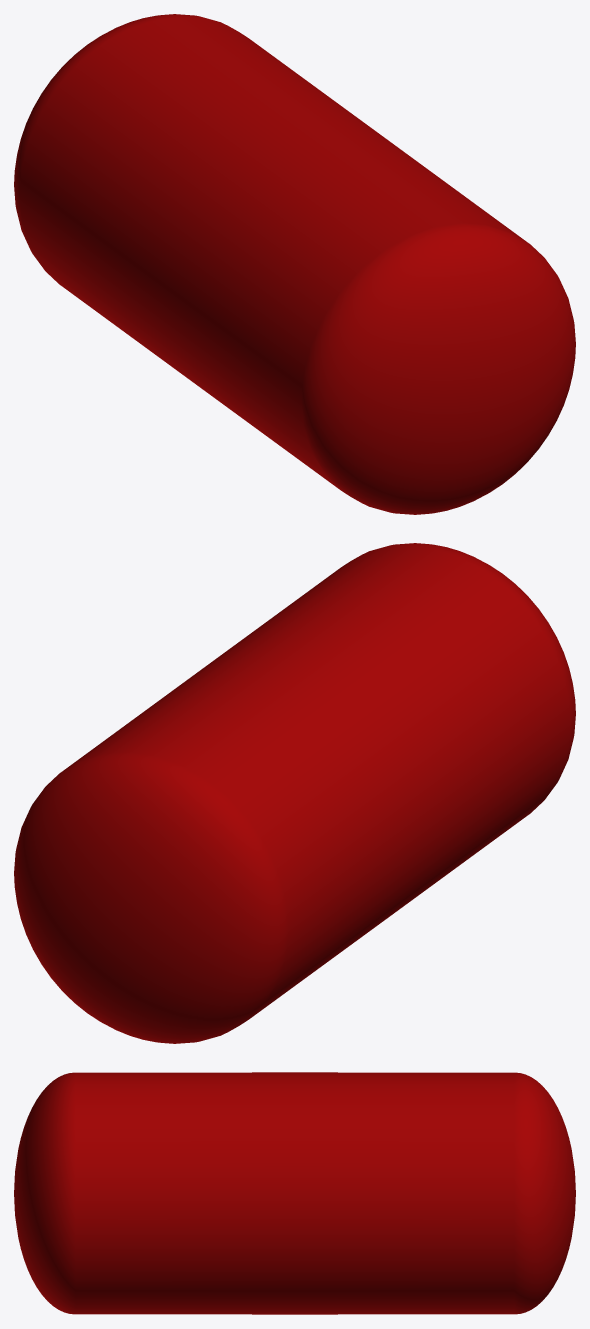
The model's file is CAD+FEA Study for Optimized Design.fbx.
The picture shows the model from 3 angles, top to bottom: view 1: azimuth 30°, elevation 25°; view 2: azimuth 150°, elevation 25°; view 3: azimuth 270°, elevation 25°; orthographic projection. The views are drawn at different scales.
Visible parts, largest first — view 1: Body1; view 2: Body1; view 3: Body1.
Boxes of the visible parts, left/top/right/bottom form: Body1: left=14, top=14, right=575, bottom=514; Body1: left=14, top=543, right=575, bottom=1043; Body1: left=14, top=1072, right=575, bottom=1314.
Bounding box in the file's own units: 286 × 286 × 663.
